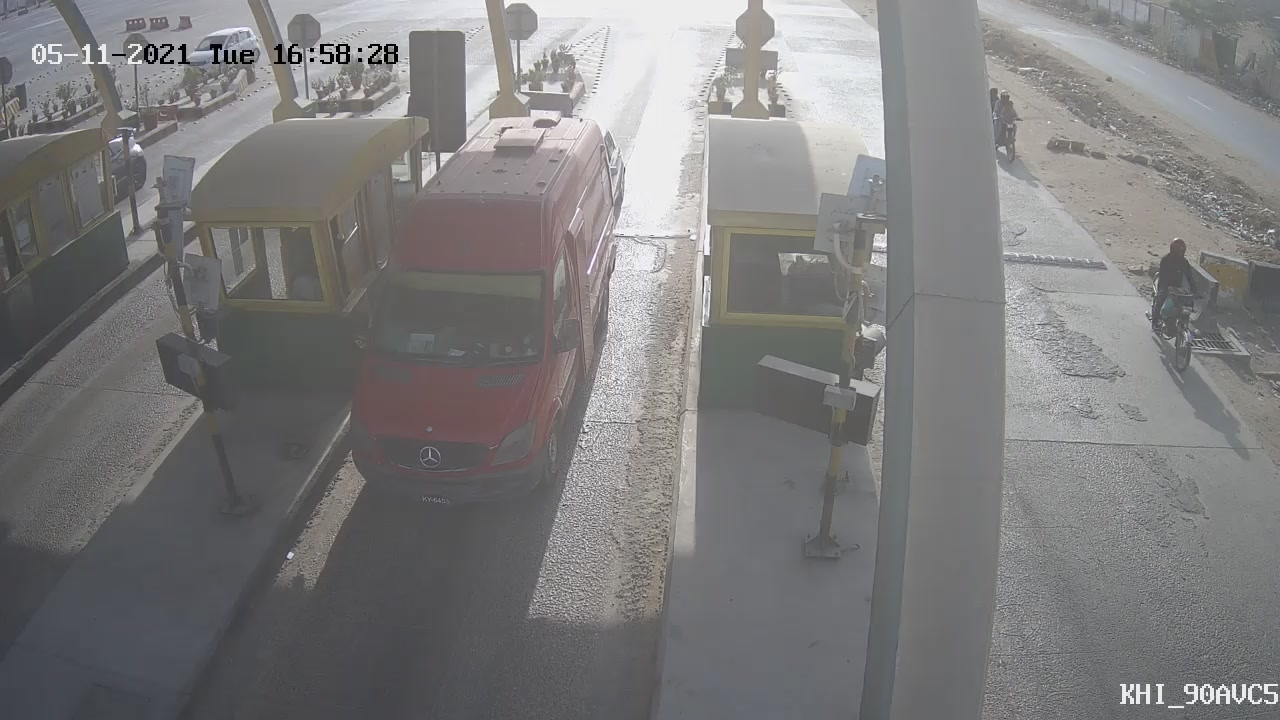F2: (314, 95, 643, 534)
